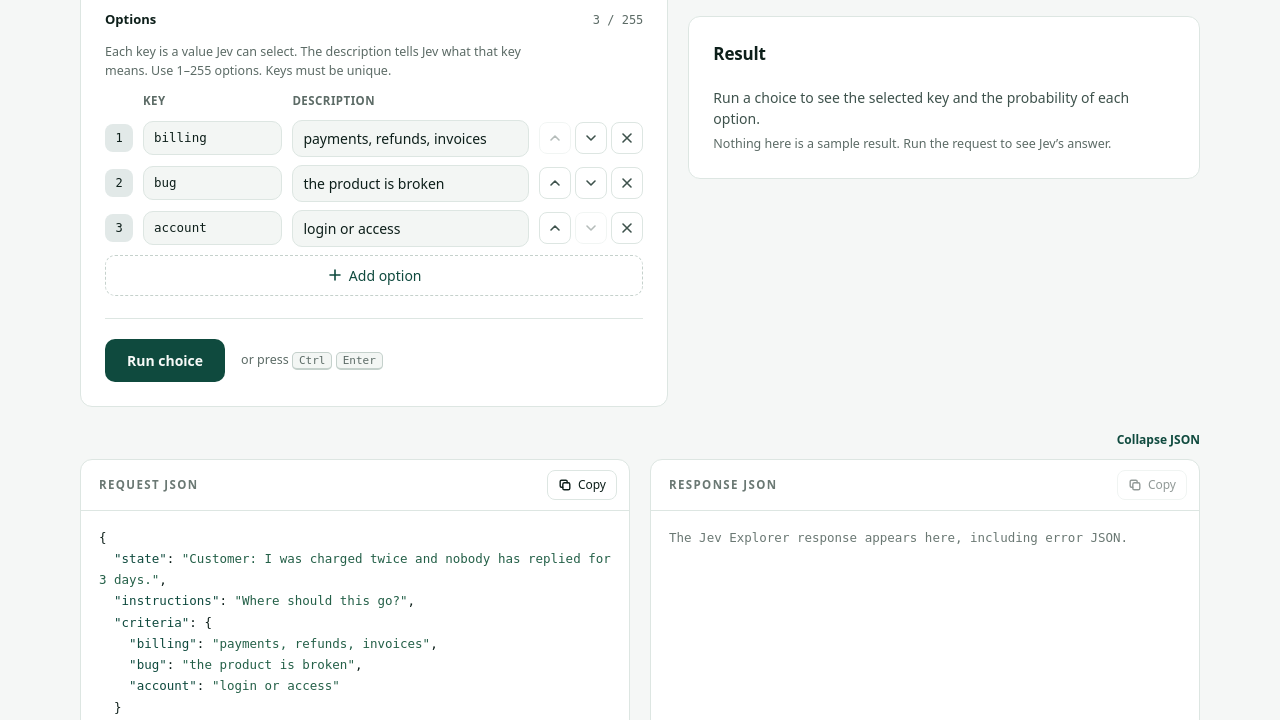
Scenario: Explorer › shows 422 validation_error
(page scrolled)
Click the button "Run choice".
click(165, 360)  # box [105,338,225,382]
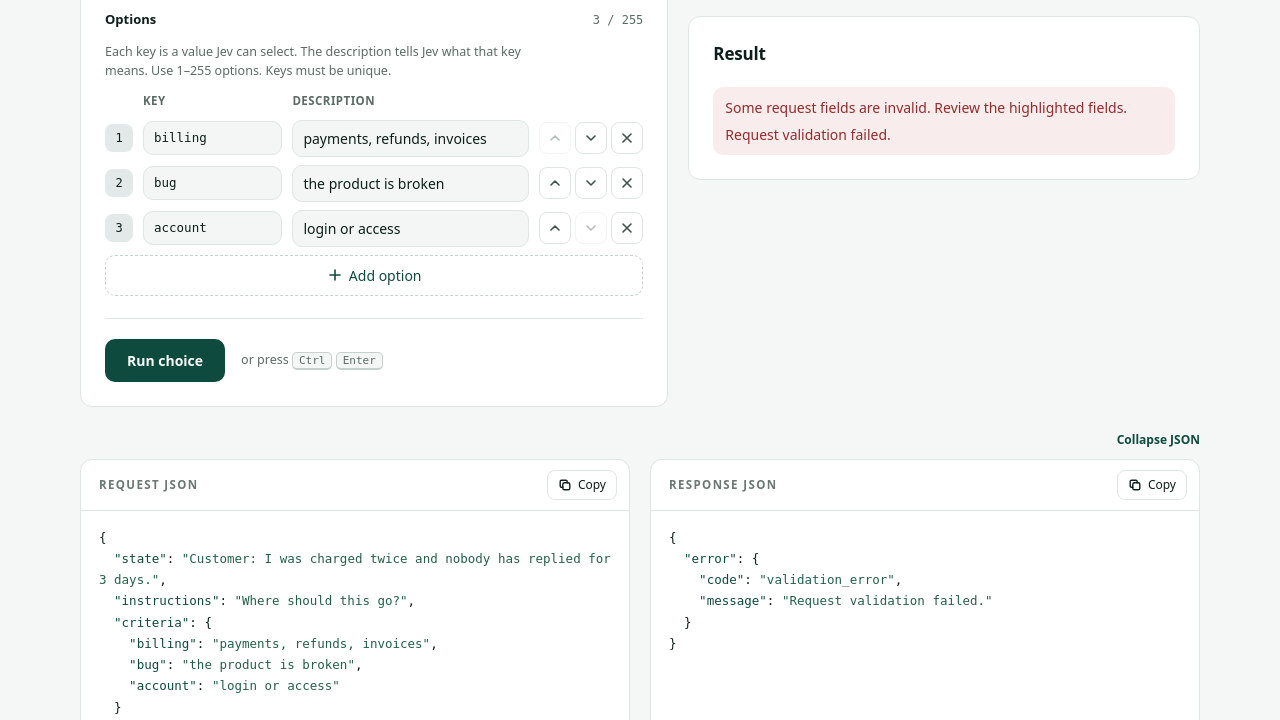
Expected: the message shows "invalid", [725,98,1127,116]
Expected: the element with id "response-json" shows "\"validation_error\"", [759,572,895,587]
